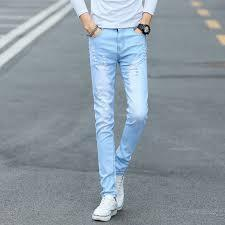pants: (88, 24, 151, 197)
